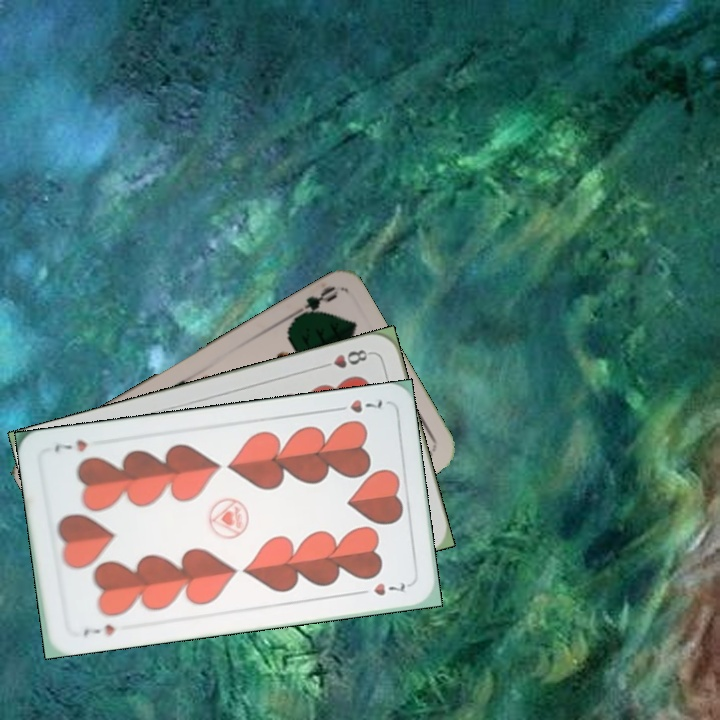GO: (284, 282, 340, 326)
H7: (329, 395, 387, 416), (79, 620, 118, 638)
H8: (316, 345, 374, 371)
